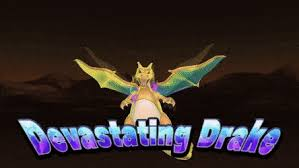charizard: (70, 55, 225, 118)
